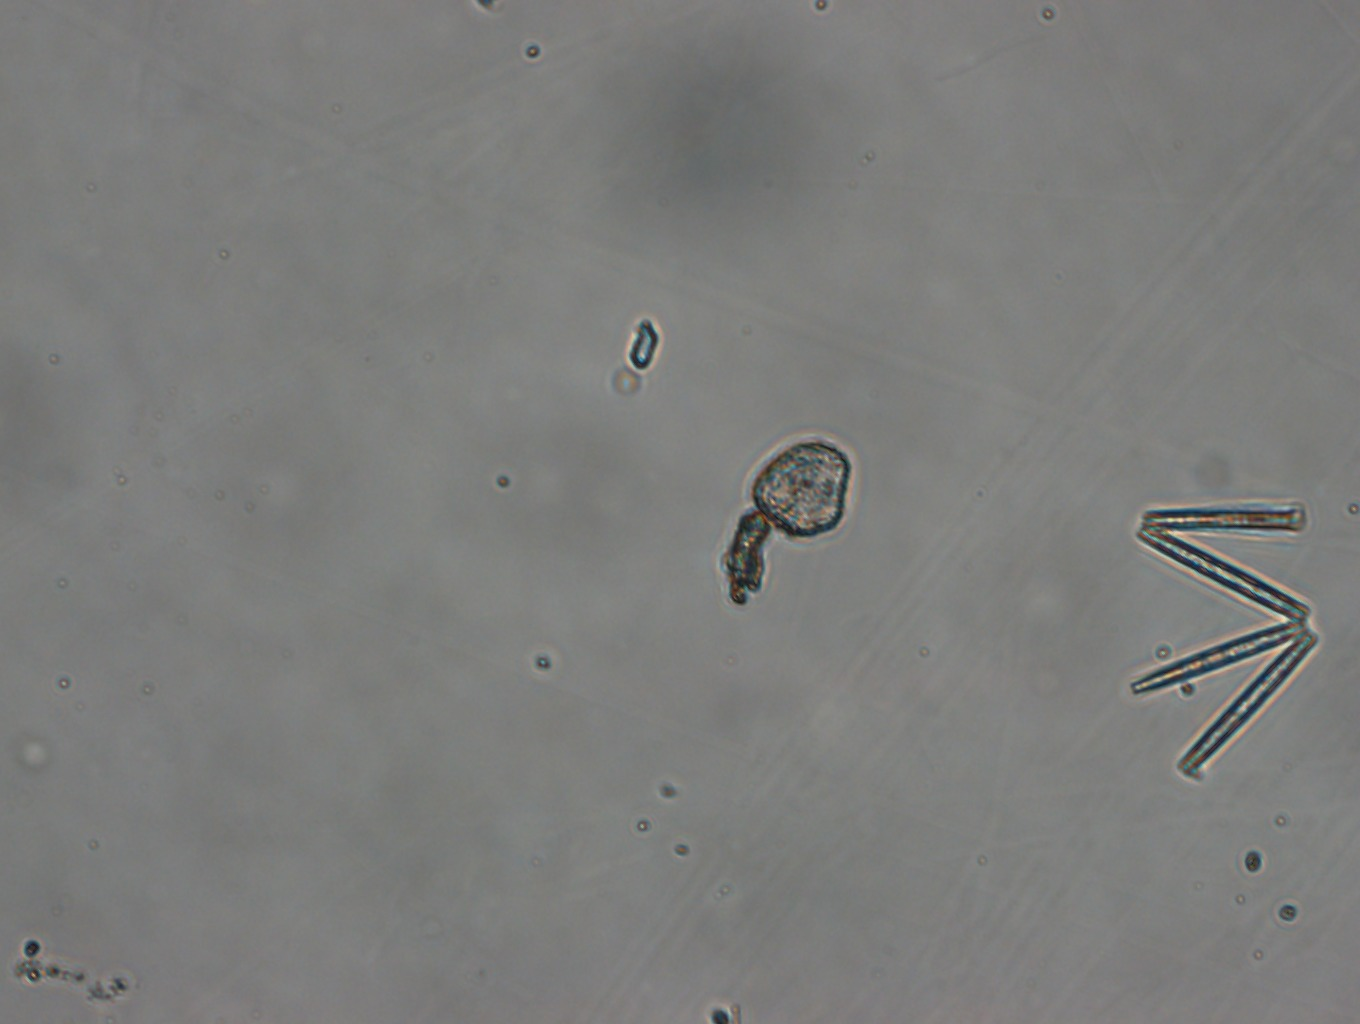thalassionema nitzschioides: (1127, 500, 1326, 781)
